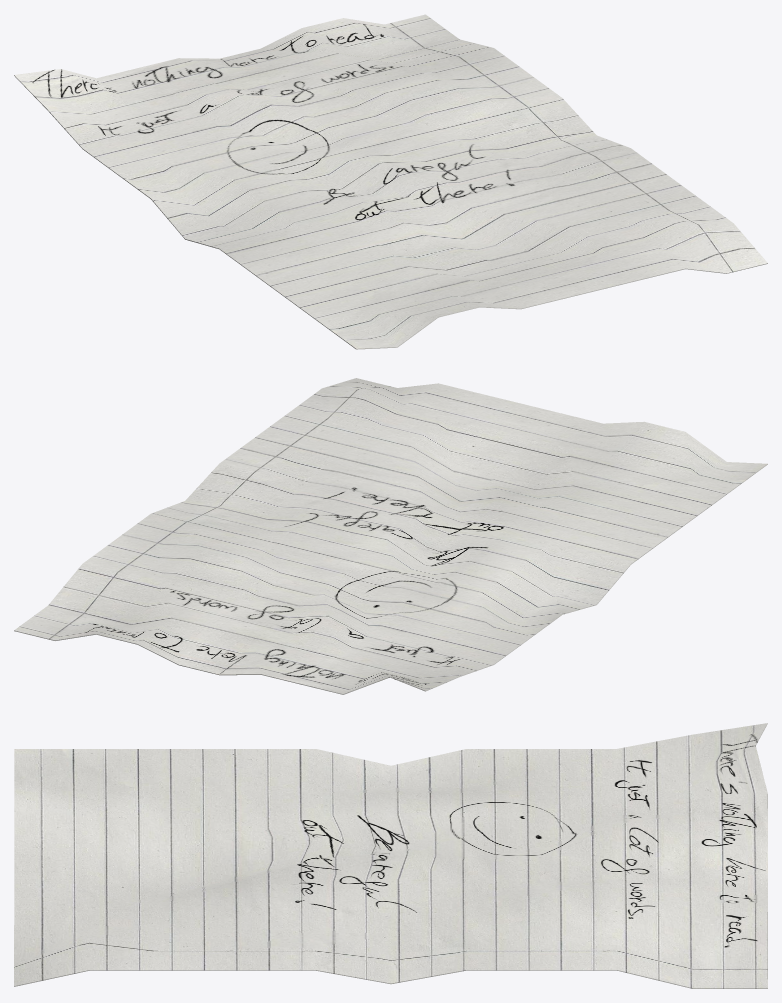
Rendered from Papel7.fbx.
3 renders of one model, top to bottom at view 1: azimuth 30°, elevation 25°; view 2: azimuth 150°, elevation 25°; view 3: azimuth 270°, elevation 25°, orthographic. The views are drawn at different scales.
Visible parts, largest first — view 1: Plane001; view 2: Plane001; view 3: Plane001.
Boxes of the visible parts, x1,y1,x2,y2 form: Plane001: [14, 14, 767, 349]; Plane001: [14, 378, 767, 694]; Plane001: [14, 723, 767, 988].
Bounding box in the file's own units: 61.97 × 5.84 × 89.27.
